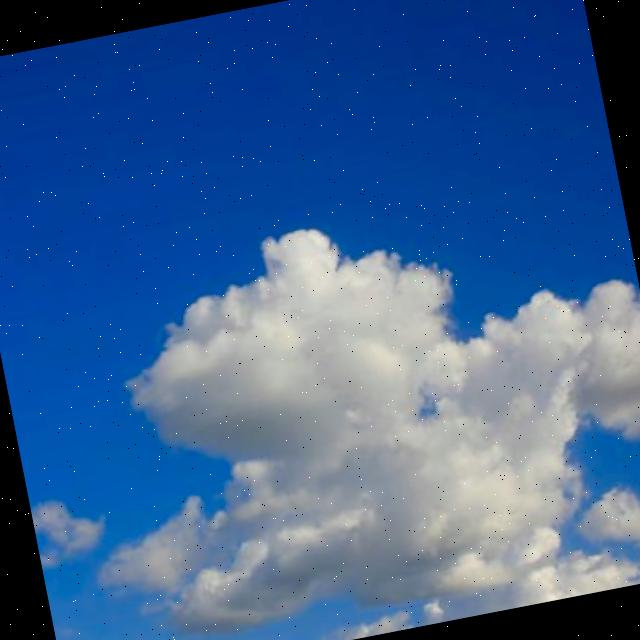Ac: (1, 82, 640, 640)
